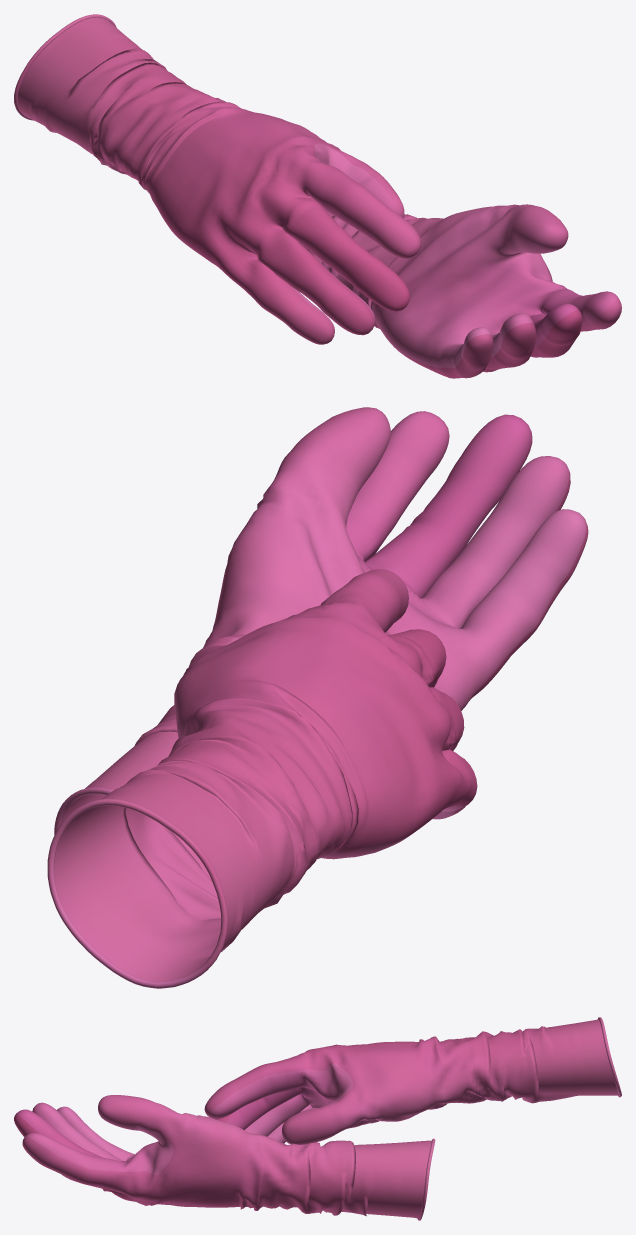
The picture shows the model from 3 angles, top to bottom: view 1: azimuth 30°, elevation 25°; view 2: azimuth 150°, elevation 25°; view 3: azimuth 270°, elevation 25°; orthographic projection. The views are drawn at different scales.
Visible parts, largest first — view 1: Glove_rubber_low, Glove_rubber_low.001; view 2: Glove_rubber_low, Glove_rubber_low.001; view 3: Glove_rubber_low.001, Glove_rubber_low.
Boxes of the visible parts, <box> form: Glove_rubber_low: <box>14,14,421,344</box>; Glove_rubber_low.001: <box>298,204,621,378</box>; Glove_rubber_low: <box>47,569,477,988</box>; Glove_rubber_low.001: <box>54,407,588,835</box>; Glove_rubber_low.001: <box>14,1095,435,1220</box>; Glove_rubber_low: <box>204,1017,621,1144</box>.
Bounding box in the file's own units: 14 × 10.44 × 35.93.
Materials: 1 (1 with a texture image).
